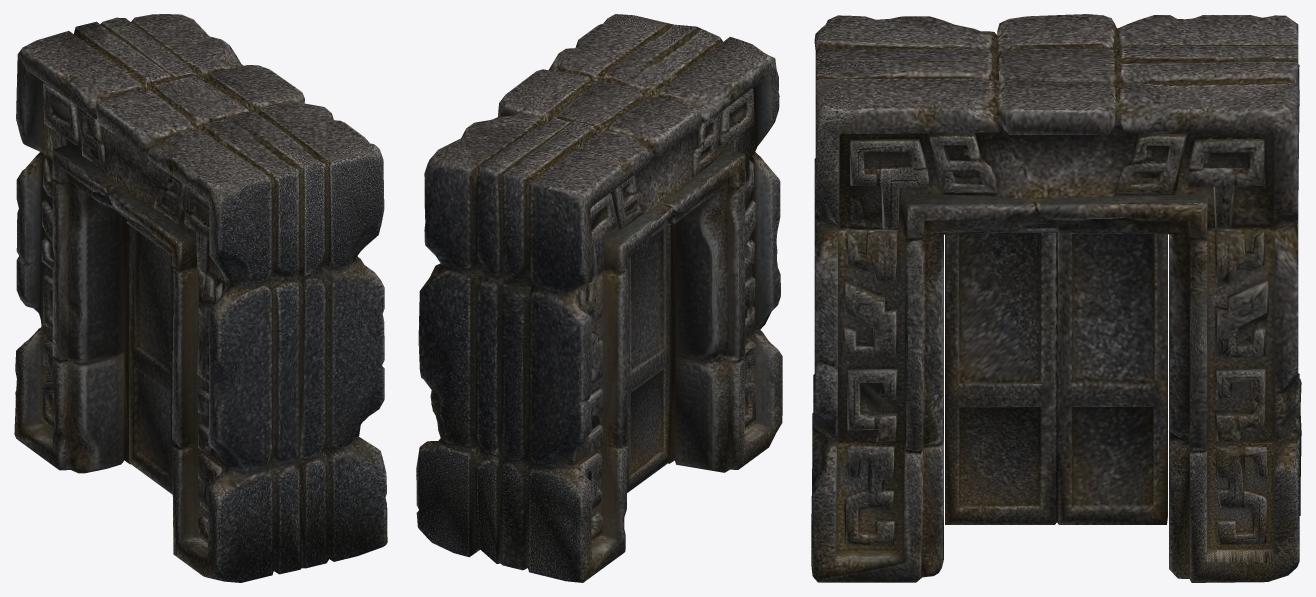
File: tripo_convert_e0377cac-fc01-4f41-83bb-559160c94a4c.fbx
3 renders of one model, left to right at view 1: azimuth 30°, elevation 25°; view 2: azimuth 150°, elevation 25°; view 3: azimuth 270°, elevation 25°, orthographic. The views are drawn at different scales.
Visible parts, largest first — view 1: tripo_node_e0377cac; view 2: tripo_node_e0377cac; view 3: tripo_node_e0377cac.
Part boxes in pixels (x1,y1,x2,y2): tripo_node_e0377cac: (14,14,387,582); tripo_node_e0377cac: (416,14,782,582); tripo_node_e0377cac: (811,14,1301,582).
Bounding box in the file's own units: 0.4473 × 0.998 × 0.9316.
Materials: 1 (1 with a texture image).
